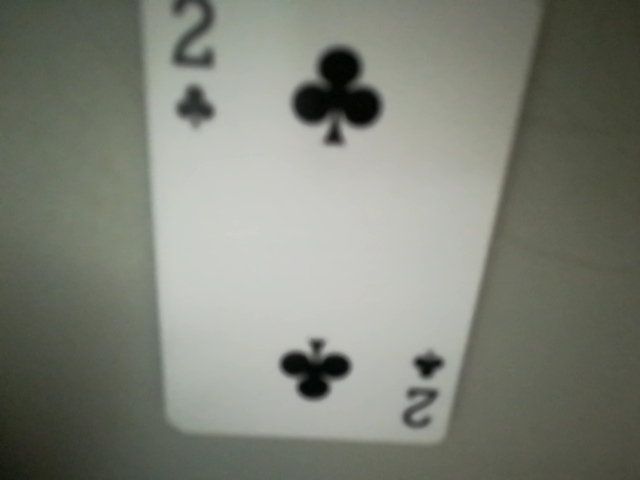mh 2: (161, 1, 223, 154), (403, 342, 452, 439)
